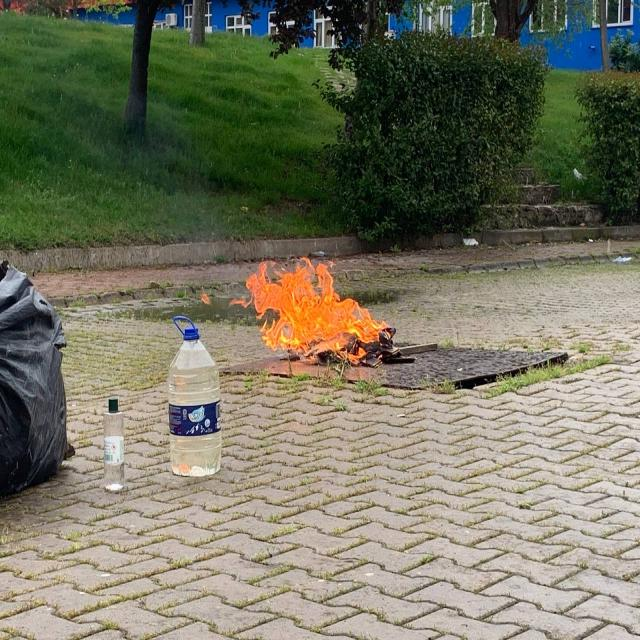fire: (218, 246, 394, 367)
